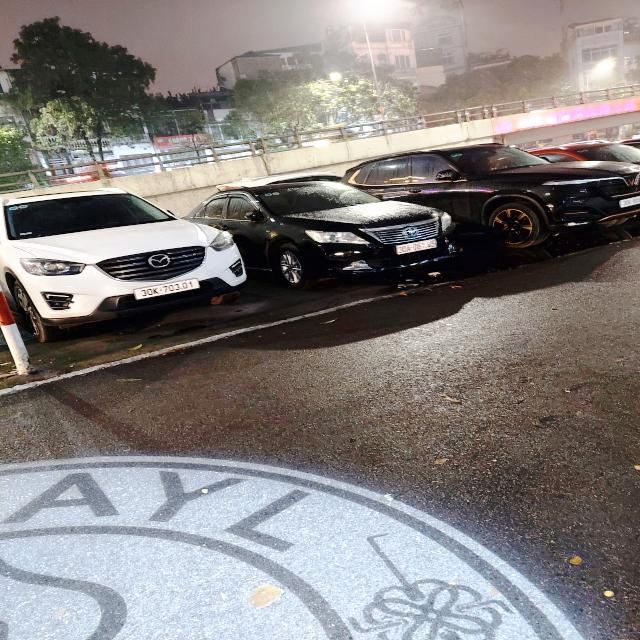license_plate: (133, 278, 202, 301)
